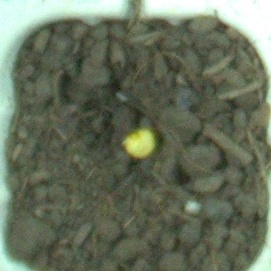pepper seed: (42, 47, 199, 207)
